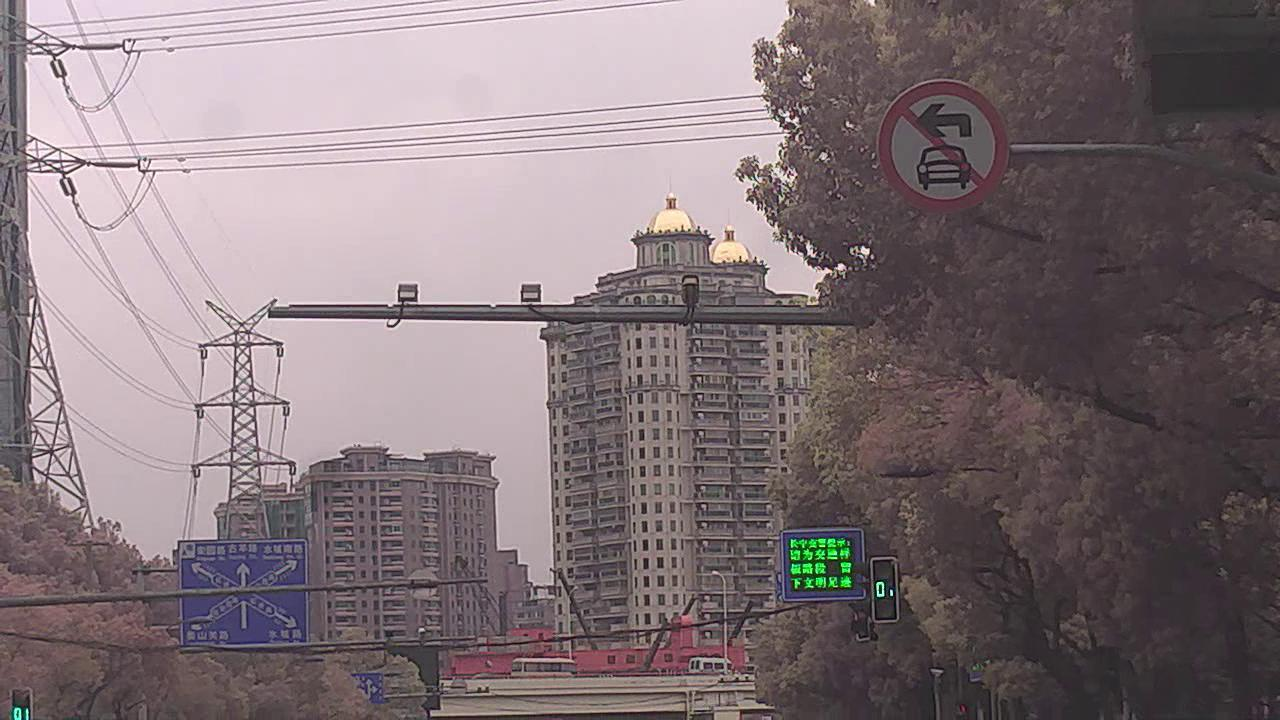traffic_light: (869, 556, 901, 626)
